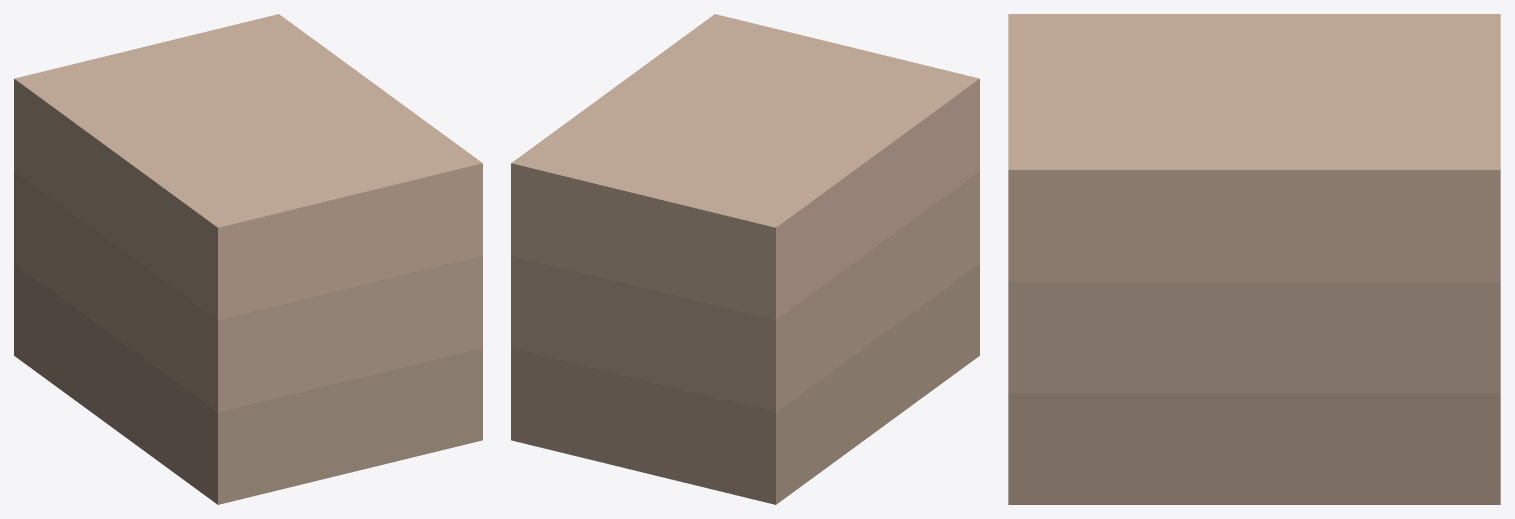
Rendered from hand.glb.
3 views of the same model, side by side, from view 1: azimuth 30°, elevation 25°; view 2: azimuth 150°, elevation 25°; view 3: azimuth 270°, elevation 25° (orthographic). The views are drawn at different scales.
Visible parts, largest first — view 1: hand; view 2: hand; view 3: hand.
Part boxes in pixels (left/top/right/bottom): hand: left=14, top=14, right=482, bottom=504; hand: left=511, top=14, right=979, bottom=504; hand: left=1008, top=14, right=1500, bottom=504.
Size of the model in its own units: 3 by 3 by 4.
